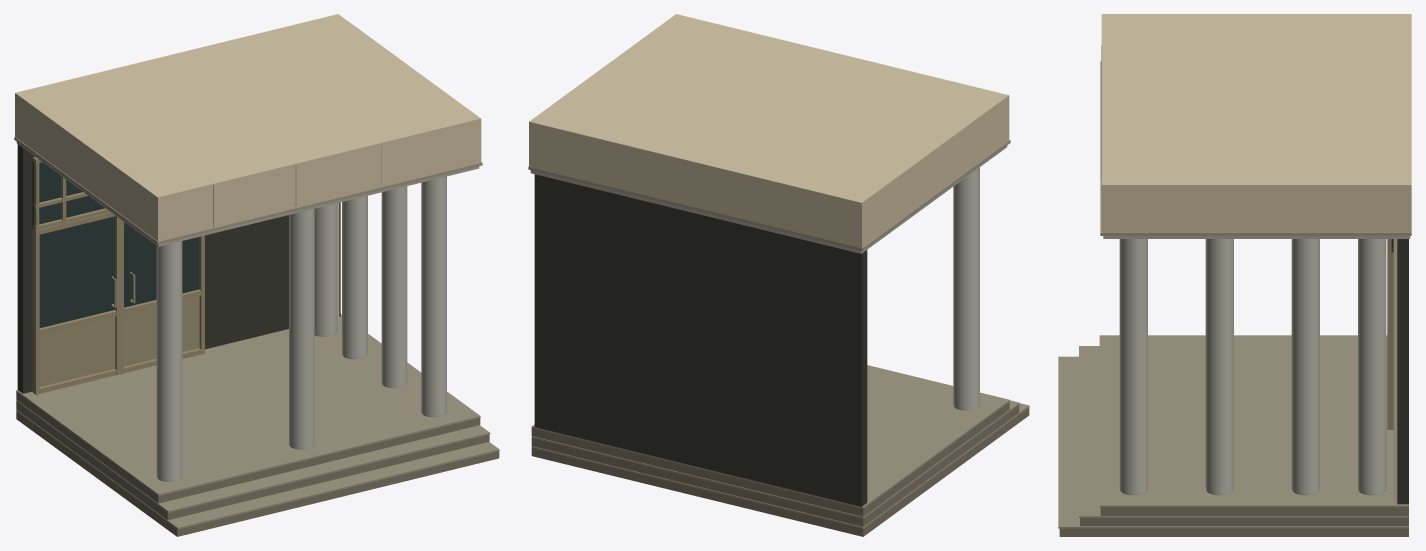
The model's file is yangpu-tongji-wenyuan-entrance-canopy-full.glb.
3 views of the same model, side by side, from view 1: azimuth 30°, elevation 25°; view 2: azimuth 150°, elevation 25°; view 3: azimuth 270°, elevation 25° (orthographic). The views are drawn at different scales.
Visible parts, largest first — view 1: 同济大学文远楼正门雨篷与三柱门廊; view 2: 同济大学文远楼正门雨篷与三柱门廊; view 3: 同济大学文远楼正门雨篷与三柱门廊.
Boxes of the visible parts, x1,y1,x2,y2 form: 同济大学文远楼正门雨篷与三柱门廊: (14, 14, 499, 536); 同济大学文远楼正门雨篷与三柱门廊: (528, 14, 1029, 536); 同济大学文远楼正门雨篷与三柱门廊: (1058, 14, 1411, 536).
Bounding box in the file's own units: 4.54 × 4.34 × 3.94.
